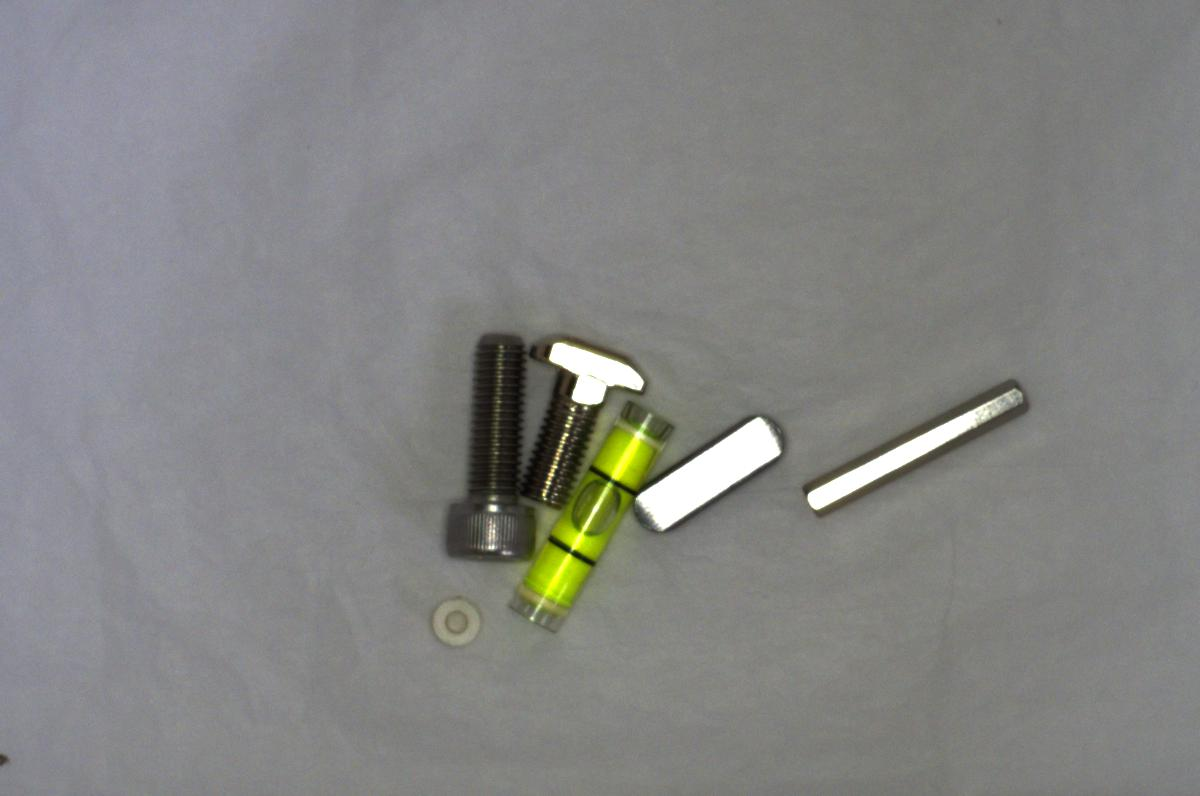Double hexagonal column: (799, 372, 1030, 520)
Hexagon screw: (432, 323, 539, 559)
Horizontal bubble: (508, 412, 678, 634)
Keybar: (625, 408, 793, 548)
Plastic cushion pillar: (427, 585, 488, 652)
T-shaped screw: (513, 325, 650, 507)
